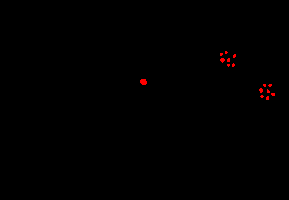Target: (140, 79, 147, 85), (220, 58, 225, 63), (259, 88, 263, 93), (233, 54, 236, 58), (227, 58, 230, 62), (232, 63, 235, 67), (268, 84, 272, 87), (267, 89, 270, 93), (271, 93, 275, 96), (260, 95, 264, 98), (266, 96, 269, 100), (225, 51, 228, 54), (220, 53, 223, 56), (227, 64, 230, 67), (263, 84, 266, 87)
